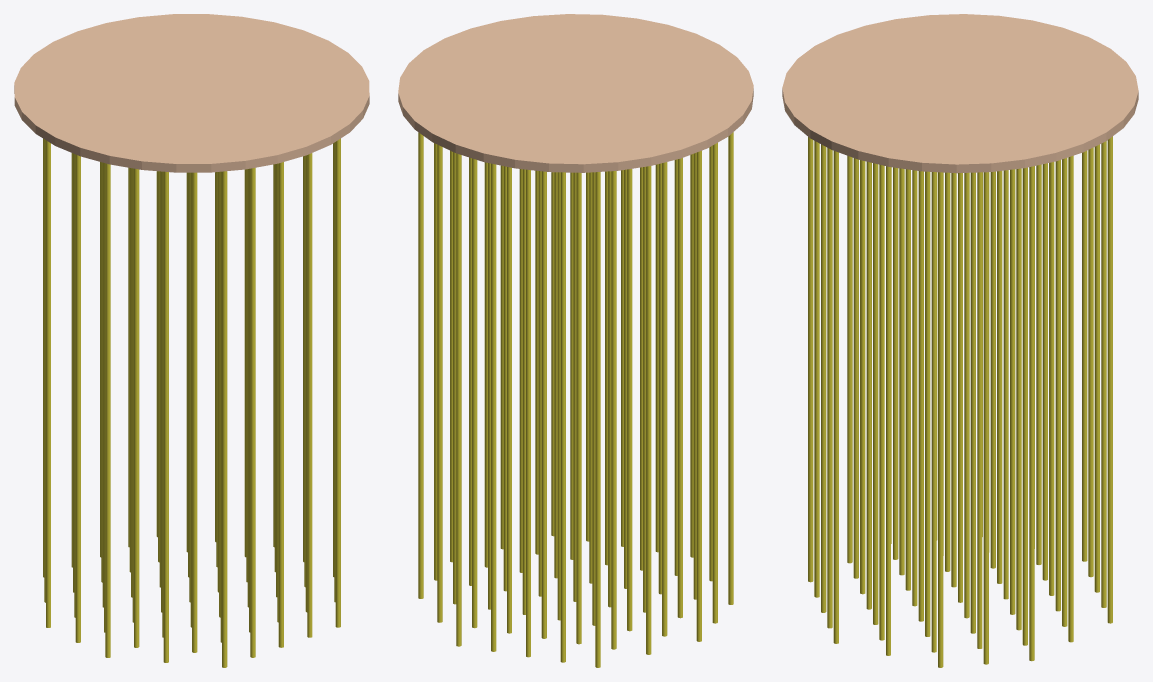
The model's file is modelo (1).glb.
The picture shows the model from 3 angles, left to right: view 1: azimuth 30°, elevation 25°; view 2: azimuth 150°, elevation 25°; view 3: azimuth 270°, elevation 25°; orthographic projection.
Parts seen in each view (by area): view 1: Circle, Cylinder.056, Cylinder.040, Cylinder.048, Cylinder.055, Cylinder.061, Cylinder.004, Cylinder.054, Cylinder.062, Cylinder.047, Cylinder.039, Cylinder.013 (+40 smaller); view 2: Circle, Cylinder.029, Cylinder.034, Cylinder.028, Cylinder.013, Cylinder.021, Cylinder.035, Cylinder.004, Cylinder.020, Cylinder.024, Cylinder.012, Cylinder.019 (+40 smaller); view 3: Circle, Cylinder.041, Cylinder.014, Cylinder.005, Cylinder.061, Cylinder.024, Cylinder.034, Cylinder.042, Cylinder.062, Cylinder.015, Cylinder.006, Cylinder.052 (+35 smaller).
Part boxes in pixels (x1,y1,x2,y2): Circle: (14,14,369,172); Cylinder.056: (222,171,227,667); Cylinder.040: (105,163,110,657); Cylinder.048: (163,171,168,662); Cylinder.055: (250,167,255,657); Cylinder.061: (335,138,340,627); Cylinder.004: (75,154,80,642); Cylinder.054: (278,162,283,647); Cylinder.062: (307,153,312,637); Cylinder.047: (192,172,197,652); Cylinder.039: (134,168,139,647); Cylinder.013: (46,140,50,627); Circle: (398,14,753,172); Cylinder.029: (595,172,600,667); Cylinder.034: (456,153,461,646); Cylinder.028: (560,172,565,662); Cylinder.013: (696,150,701,641); Cylinder.021: (646,166,651,654); Cylinder.035: (491,163,496,651); Cylinder.004: (712,142,717,623); Cylinder.020: (611,171,616,649); Cylinder.024: (437,144,442,622); Cylinder.012: (662,162,667,636); Cylinder.019: (576,172,581,644); Circle: (782,14,1138,173); Cylinder.041: (938,172,943,667); Cylinder.014: (1029,166,1034,661); Cylinder.005: (983,172,988,664); Cylinder.061: (833,151,838,643); Cylinder.024: (1068,155,1073,642); Cylinder.034: (1107,136,1112,623); Cylinder.042: (931,172,936,652); Cylinder.062: (827,148,832,628); Cylinder.015: (1022,167,1027,645); Cylinder.006: (977,172,982,648); Cylinder.052: (879,164,884,640).
Size of the model in its own units: 7.69 by 12.2 by 7.69.
